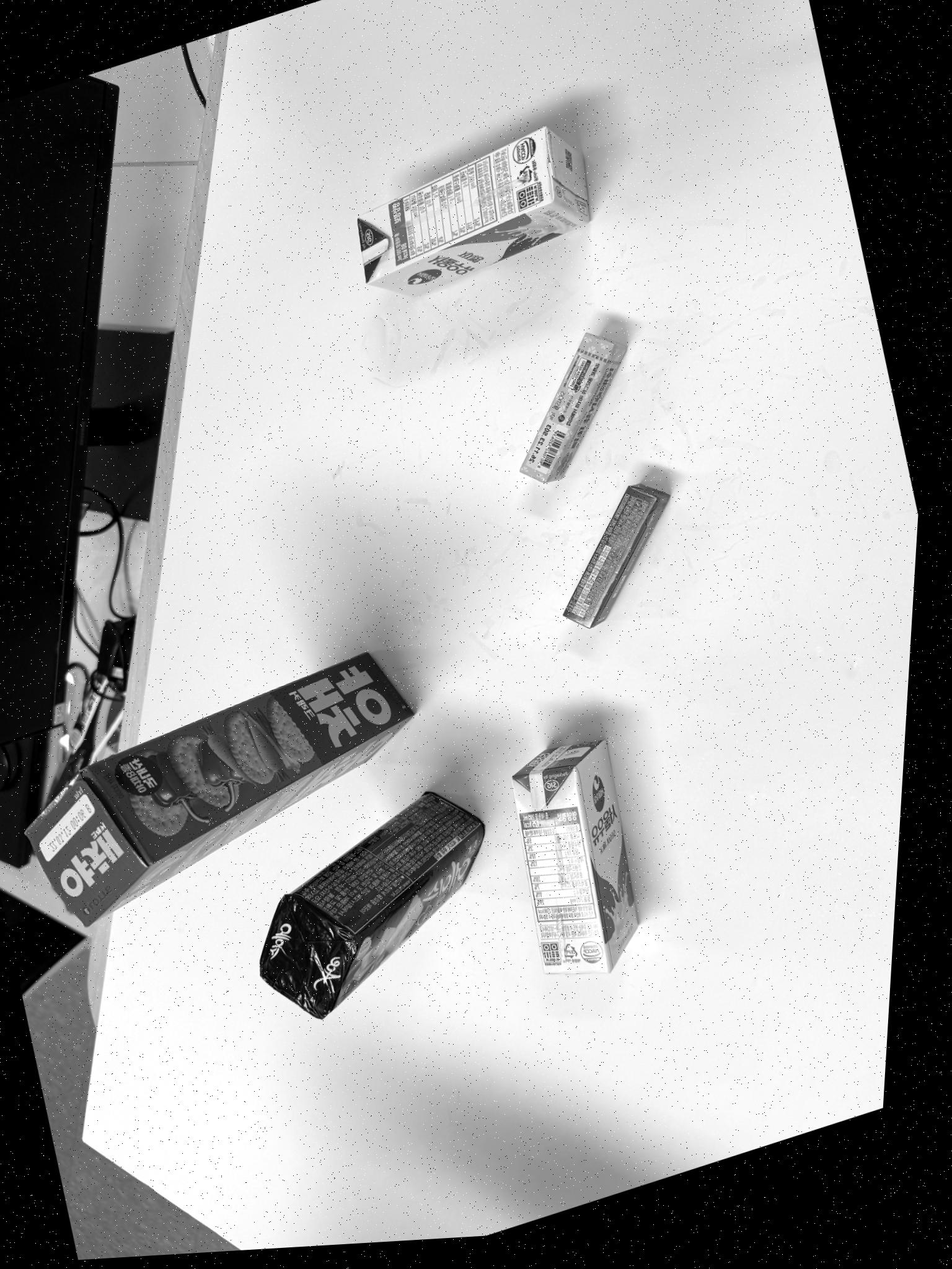cracker_ace: (260, 792, 484, 1018)
cracker_vege: (27, 652, 412, 926)
gum_green: (564, 484, 669, 628)
gum_yellow: (520, 333, 626, 483)
milk_blue: (358, 127, 590, 296)
milk_green: (512, 739, 638, 975)
